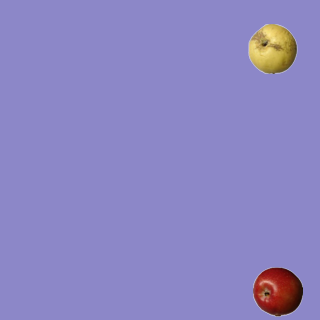Apple Braeburn: (252, 266, 302, 316)
Apple Golden 1: (247, 23, 297, 73)
